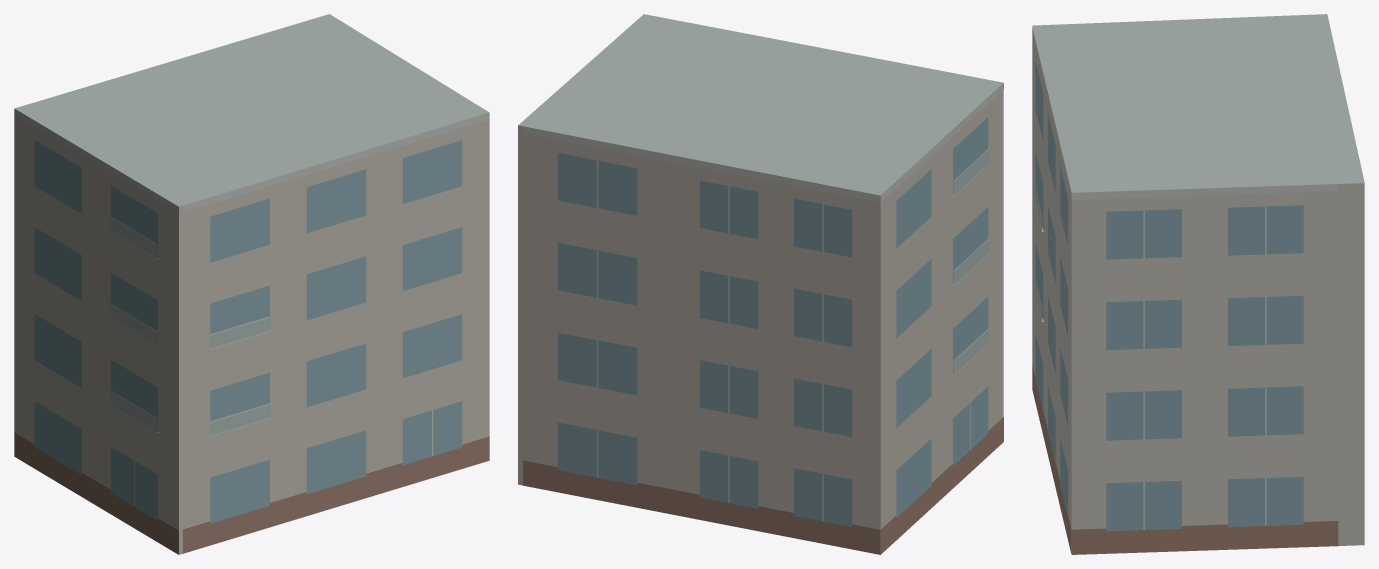
Rendered from survey-upis-32663247.glb.
3 renders of one model, left to right at view 1: azimuth 30°, elevation 25°; view 2: azimuth 150°, elevation 25°; view 3: azimuth 270°, elevation 25°, orthographic. The views are drawn at different scales.
Parts seen in each view (by area): view 1: survey-upis-32663247.tmp; view 2: survey-upis-32663247.tmp; view 3: survey-upis-32663247.tmp.
Boxes of the visible parts, box(x1,y1,x2,y2) form: survey-upis-32663247.tmp: box(14, 14, 489, 554); survey-upis-32663247.tmp: box(518, 14, 1003, 554); survey-upis-32663247.tmp: box(1032, 14, 1364, 554).
Size of the model in its own units: 12.93 by 12.2 by 10.16.
